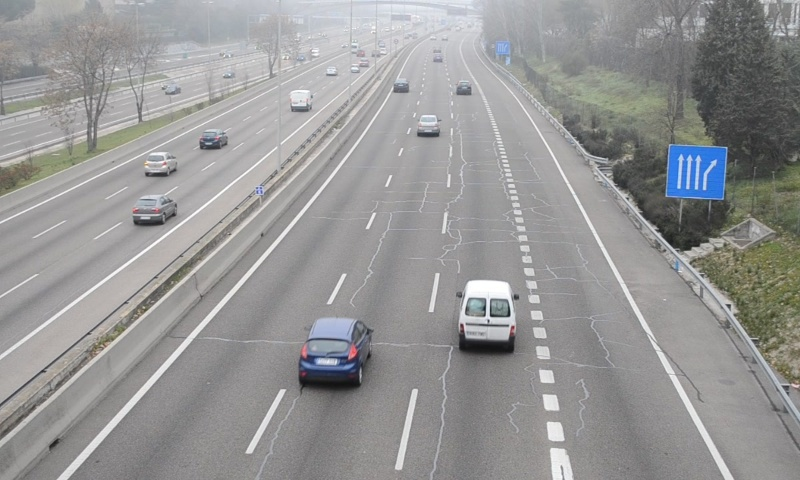car: (298, 318, 372, 384), (416, 114, 440, 137), (455, 80, 472, 96), (392, 77, 410, 92)
van: (458, 280, 518, 347)
